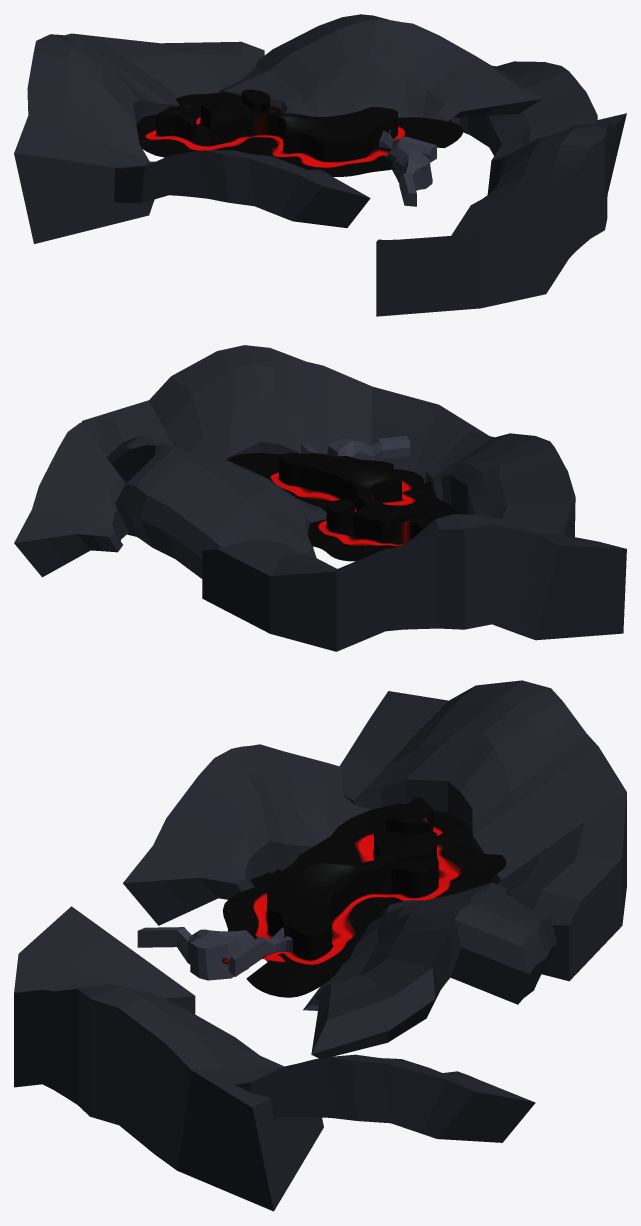
Rendered from map3b.glb.
3 renders of one model, top to bottom at view 1: azimuth 30°, elevation 25°; view 2: azimuth 150°, elevation 25°; view 3: azimuth 270°, elevation 25°, orthographic. The views are drawn at different scales.
Parts seen in each view (by area): view 1: Cube.007, Cube.010, Cube.009, Cube.008, TREECOL, Cube.011, tree parts, MainMap, Cube.012, Mud, Cube.006; view 2: Cube.007, Cube.010, Cube.009, Cube.011, Cube.008, TREECOL, tree parts, Cube.012, MainMap; view 3: Cube.010, Cube.007, Cube.009, Cube.008, Cube.011, TREECOL, tree parts, Cube.012, MainMap, Cube.006.
Part boxes in pixels (x1,y1,x2,y2): Cube.007: (14, 33, 264, 243); Cube.010: (376, 113, 626, 316); Cube.009: (220, 14, 541, 121); Cube.008: (114, 150, 370, 227); TREECOL: (156, 89, 397, 161); Cube.011: (448, 61, 597, 155); tree parts: (136, 91, 462, 176); MainMap: (145, 109, 430, 167); Cube.012: (387, 146, 432, 206); Mud: (189, 123, 277, 157); Cube.006: (379, 129, 436, 162); Cube.007: (202, 514, 626, 651); Cube.010: (82, 345, 488, 536); Cube.009: (106, 436, 326, 578); Cube.011: (14, 417, 135, 577); Cube.008: (425, 431, 575, 536); TREECOL: (279, 452, 437, 544); tree parts: (227, 453, 460, 561); Cube.012: (327, 435, 410, 461); MainMap: (270, 453, 415, 546); Cube.010: (14, 906, 323, 1211); Cube.007: (340, 680, 626, 981); Cube.009: (303, 882, 556, 1058); Cube.008: (123, 744, 371, 925); Cube.011: (235, 1054, 535, 1142); TREECOL: (267, 797, 438, 960); tree parts: (222, 803, 506, 997); Cube.012: (137, 927, 254, 980); MainMap: (221, 825, 461, 964); Cube.006: (228, 927, 292, 976).
Size of what is drawn, in the model's own units: 1309 by 422 by 982.
